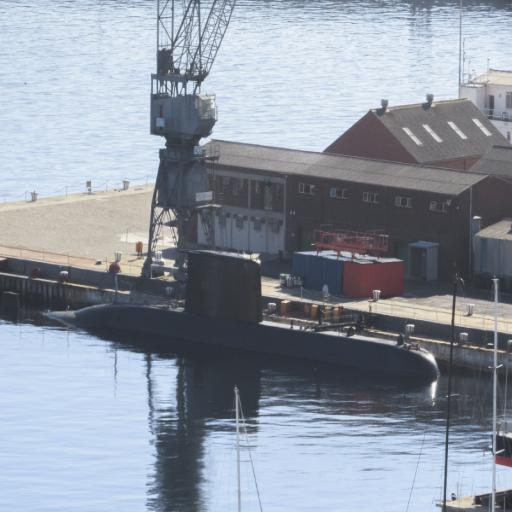submarine: (46, 251, 440, 381)
